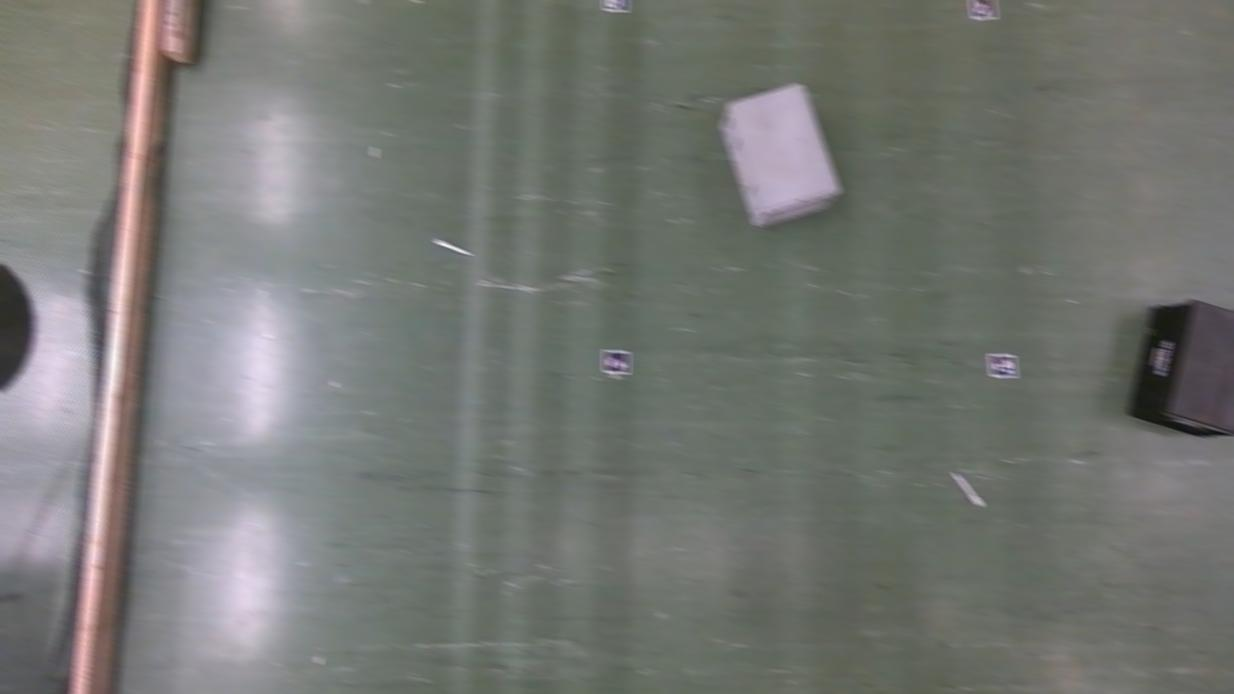probes: (952, 472, 983, 508), (434, 238, 468, 256)
rako: (720, 85, 840, 230), (1127, 301, 1234, 440)
